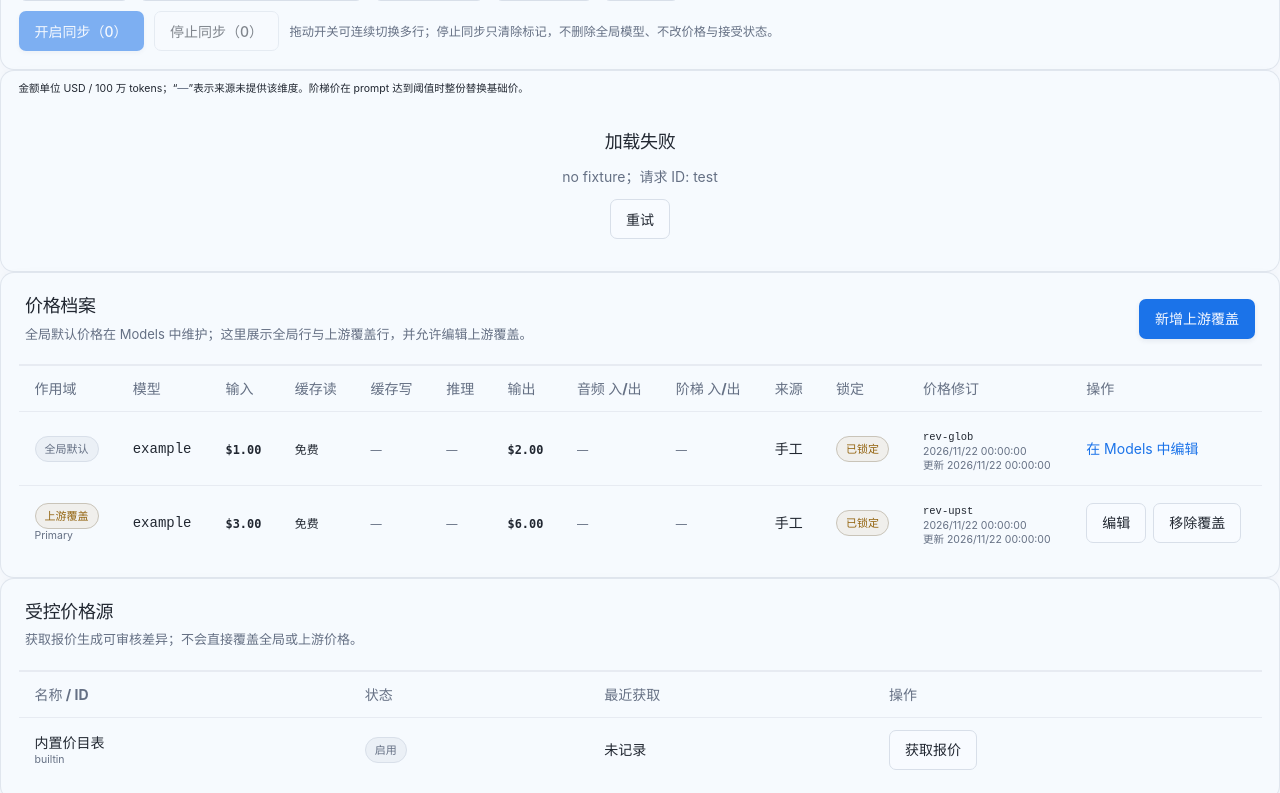
Test: prices surface › renders price_profile_locked with its own next action
The width and height of the screenshot is (1280, 793).
(page scrolled)
Click the button "获取报价" at (933, 750), box [889, 730, 977, 770]
(page scrolled)
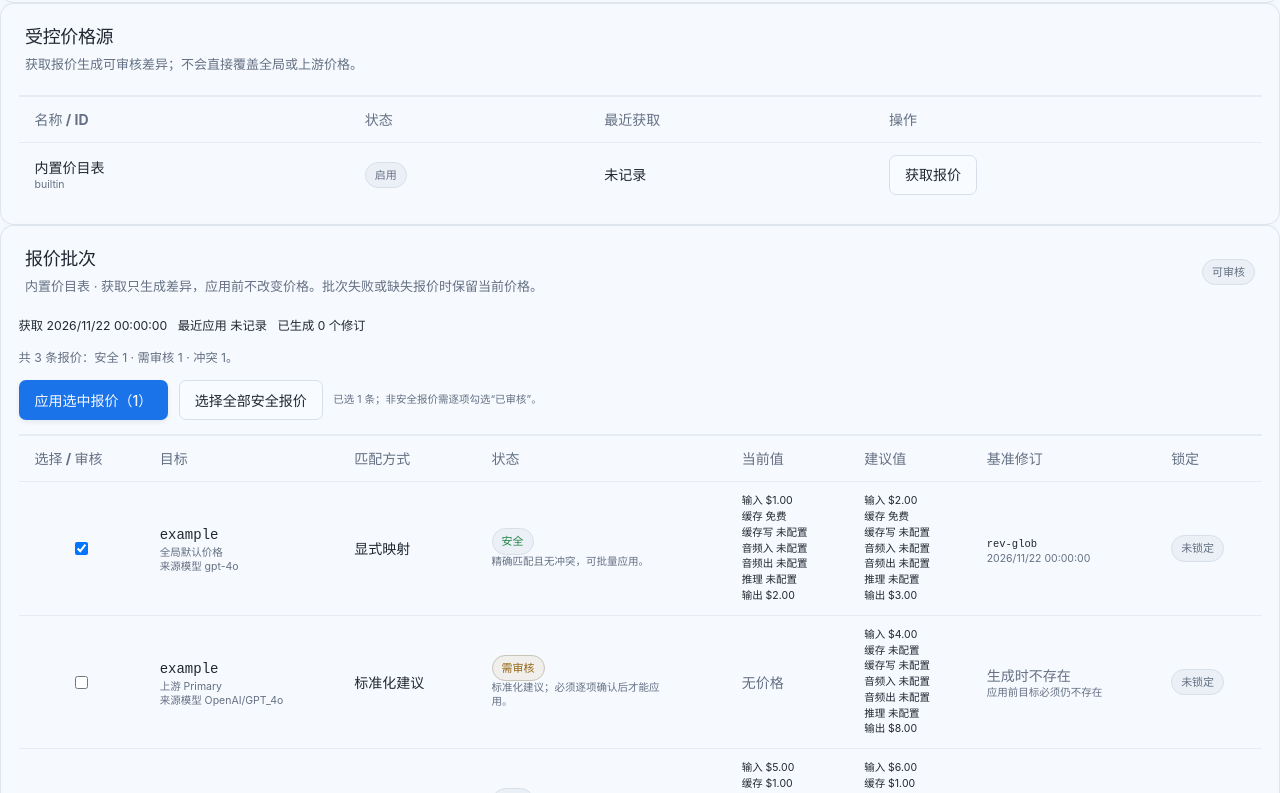
Click the button "应用选中报价（1）" at (93, 400), box [18, 380, 168, 420]
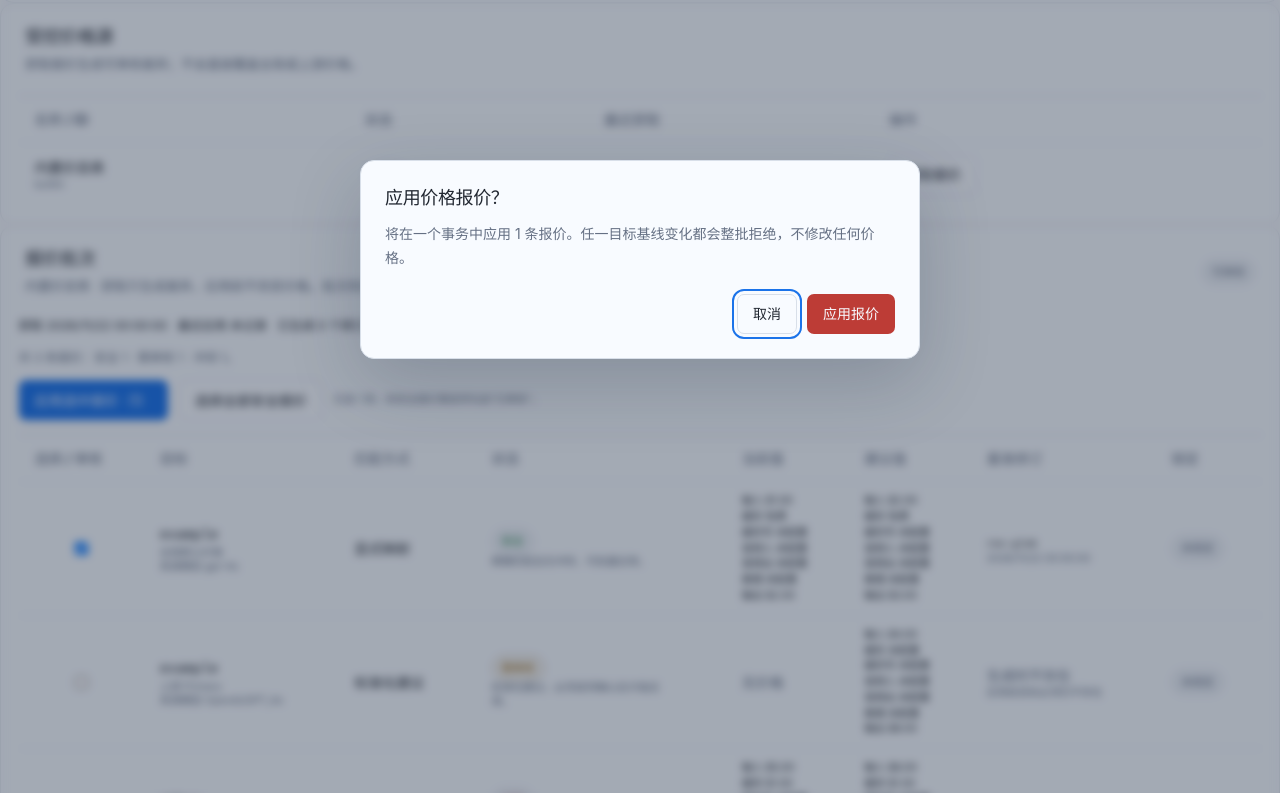
Click the button "应用报价" at (851, 314), box [807, 294, 895, 334]
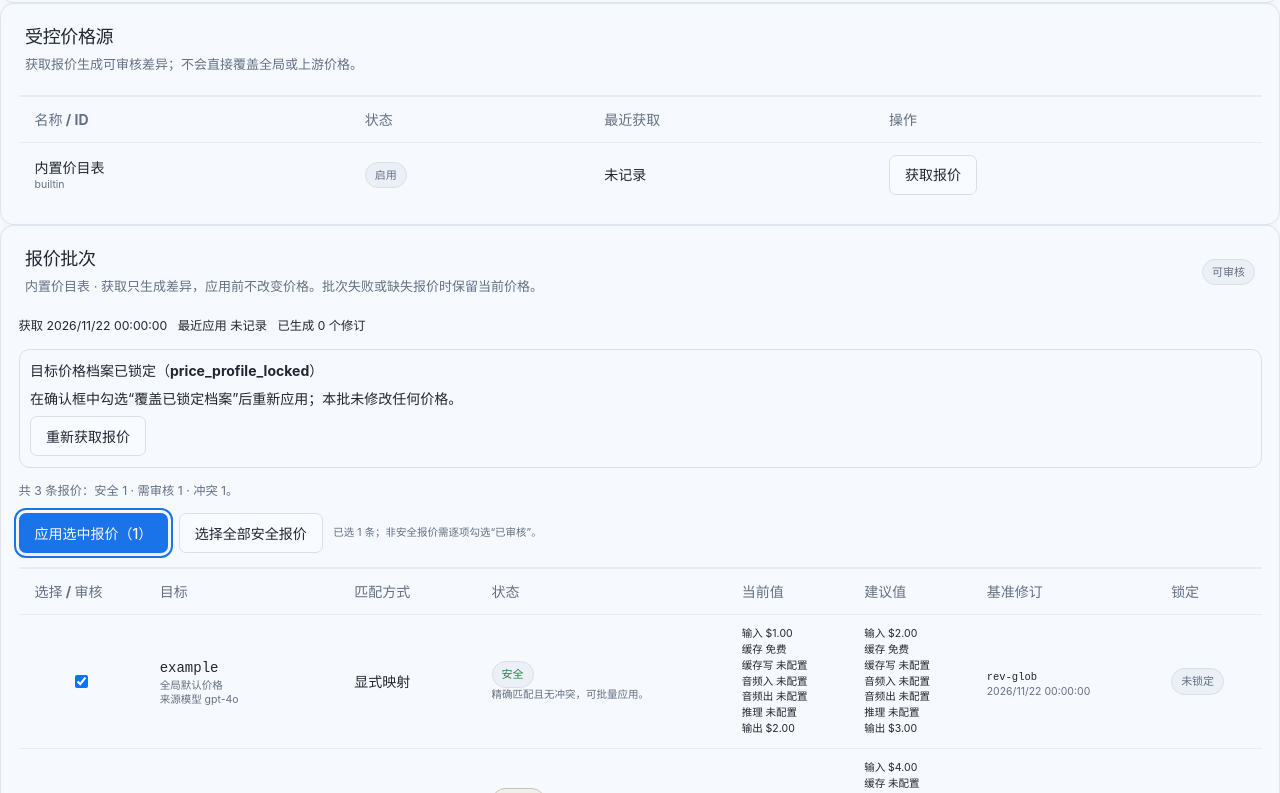
Expected: the message "目标价格档案已锁定（price_profile_locked） 在确认框中勾选“覆盖已锁定档案”后重新应用；本批未修改任何价格。 重新获取报价" is shown, [18, 349, 1262, 468]
